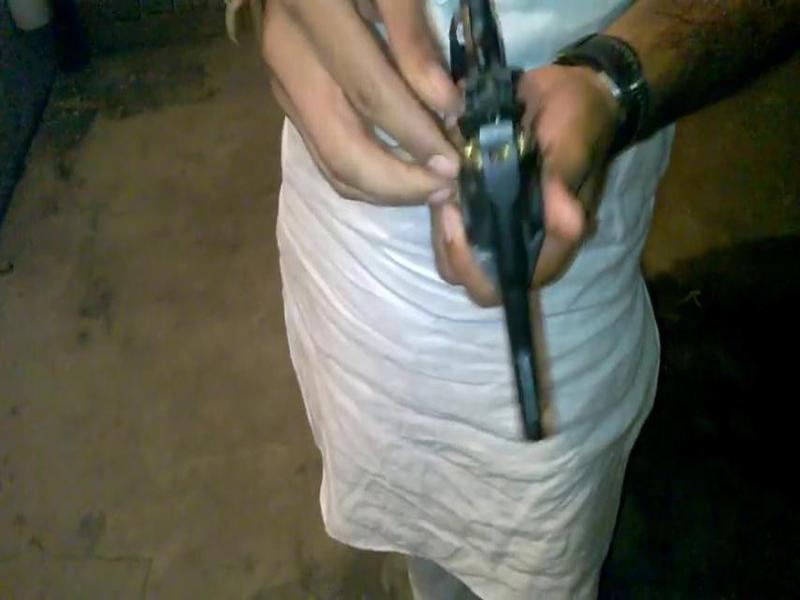Revolver: (412, 1, 602, 461)
